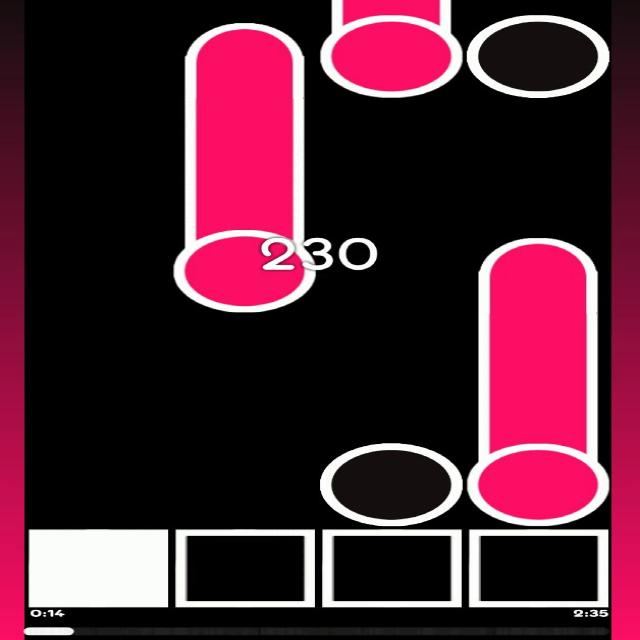end_hold: (474, 218, 600, 290), (182, 2, 309, 67)
note: (319, 441, 463, 527), (469, 13, 611, 97)
start_hold: (173, 204, 314, 312), (468, 417, 608, 524), (320, 5, 463, 98)
